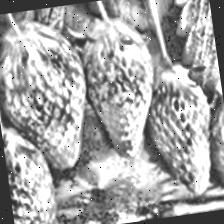Powdery Mildew Fruit: (0, 17, 96, 176), (76, 18, 168, 164), (1, 118, 61, 224)
